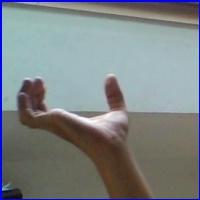B: (11, 70, 142, 158)
